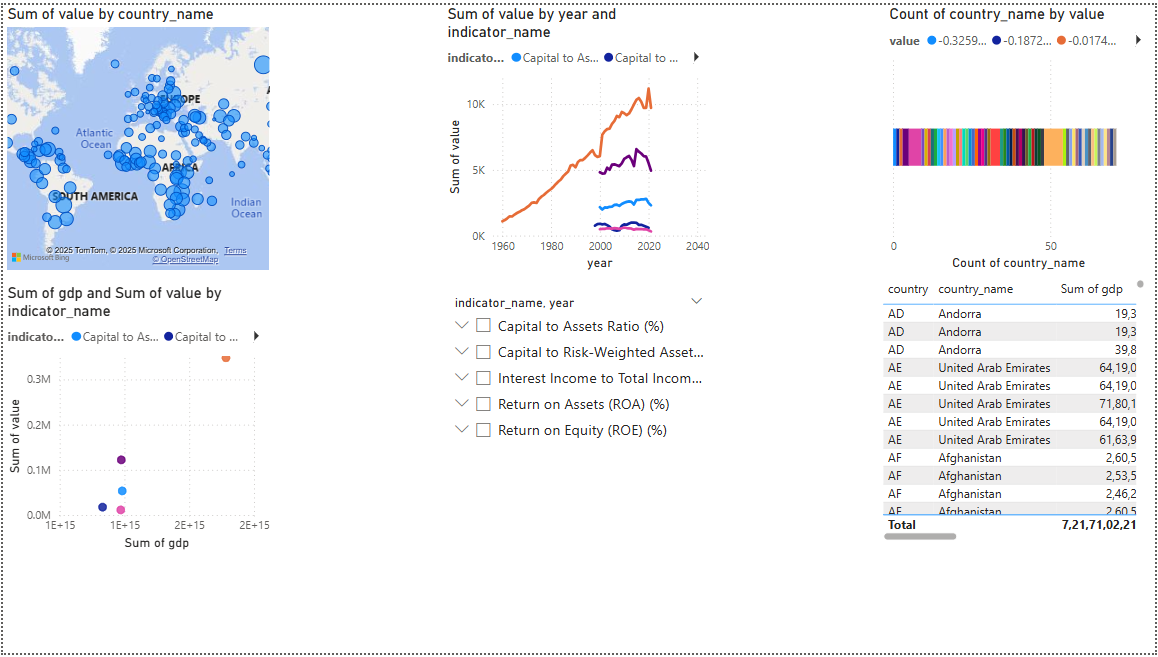

The page's visual inventory and layout, read from the dashboard file:
{"tool":"powerbi","page":{"name":"Page 1","canvas":[1280,720],"ordinal":0},"visuals":[{"type":"map","fields":{"Category":["bank_esg_risk_export.country_name"],"Size":["Sum(bank_esg_risk_export.value)"]},"box":[0,0,300.5,299.6],"z":0},{"type":"lineChart","fields":{"Category":["bank_esg_risk_export.year"],"Y":["Sum(bank_esg_risk_export.value)"],"Series":["bank_esg_risk_export.indicator_name"]},"box":[489.2,0,300.5,299.6],"z":1000},{"type":"barChart","fields":{"Y":["CountNonNull(bank_esg_risk_export.country_name)"],"Series":["bank_esg_risk_export.value"]},"box":[979.5,0,300.5,299.6],"z":2000},{"type":"scatterChart","fields":{"X":["Sum(bank_esg_risk_export.gdp)"],"Y":["Sum(bank_esg_risk_export.value)"],"Series":["bank_esg_risk_export.indicator_name"]},"box":[0,310,301,300],"z":3000},{"type":"slicer","fields":{"Values":["bank_esg_risk_export.indicator_name","bank_esg_risk_export.year"]},"box":[489.2,318.1,300.5,299.6],"z":4000},{"type":"tableEx","fields":{"Values":["bank_esg_risk_export.country","bank_esg_risk_export.country_name","Sum(bank_esg_risk_export.gdp)","bank_esg_risk_export.indicator","bank_esg_risk_export.indicator_name","Sum(bank_esg_risk_export.population)","Sum(bank_esg_risk_export.value)","Sum(bank_esg_risk_export.year)"]},"box":[971.7,299.6,300.5,299.6],"z":5000}]}

Visuals, with their boxes in screenshot pixels (x1, y1, x2, y2), scaled from the page's 1280x720 canvas onto the 1158x657 screenshot:
map - bank_esg_risk_export.country_name x Sum(bank_esg_risk_export.value): bbox=[0, 0, 272, 273]
lineChart - bank_esg_risk_export.year x Sum(bank_esg_risk_export.value): bbox=[443, 0, 714, 273]
barChart - CountNonNull(bank_esg_risk_export.country_name) x bank_esg_risk_export.value: bbox=[886, 0, 1157, 273]
scatterChart - Sum(bank_esg_risk_export.gdp) x Sum(bank_esg_risk_export.value): bbox=[0, 283, 272, 557]
slicer - bank_esg_risk_export.indicator_name x bank_esg_risk_export.year: bbox=[443, 290, 714, 564]
tableEx - bank_esg_risk_export.country x bank_esg_risk_export.country_name: bbox=[879, 273, 1151, 547]
